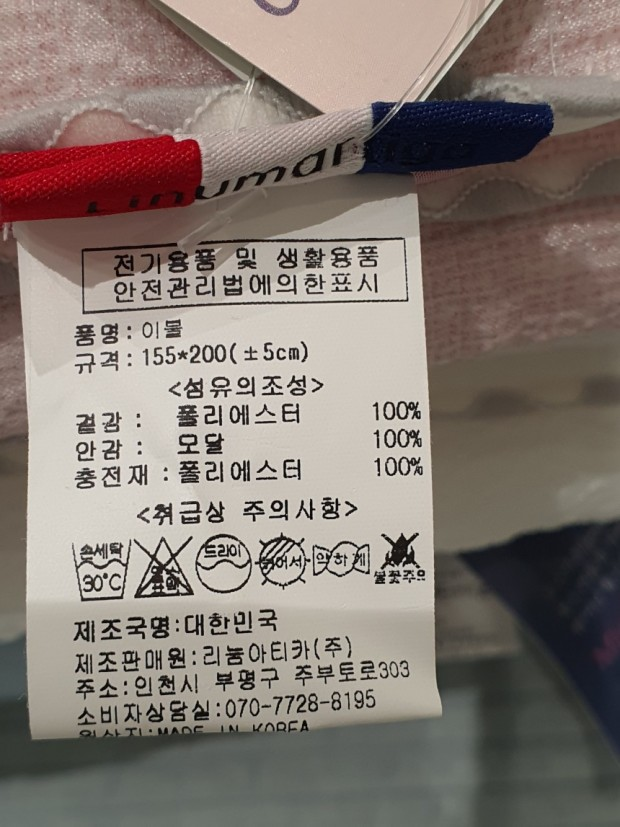ER_wash_60: (310, 537, 374, 581)
KR_dry_clean: (194, 531, 253, 595)
KR_flat_dry_in_shade: (255, 535, 312, 590)
KR_hand_wash_30_neutral: (66, 535, 133, 605)
KR_no_chlorine_bleach: (133, 536, 195, 600)
